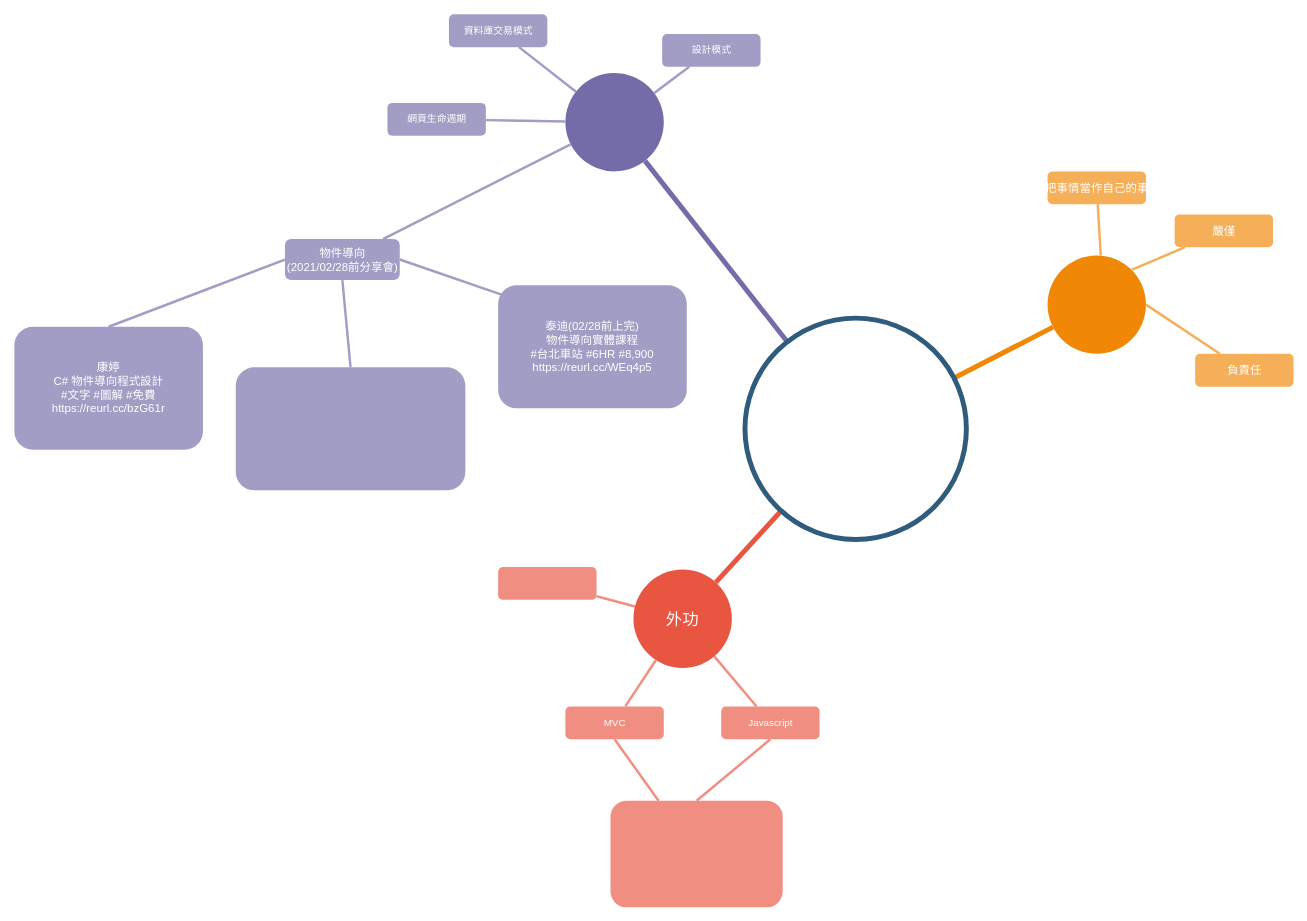
Image size: 1307x921. Some labels were removed from this diagram. Each missing label, with the centre of its shape:
.Net Core: pixel 547 583
內功: pixel 614 122
在一年內成為 資深工程師: pixel 855 428
好學校(2021/02/22 前 上完) C# 物件導向程式設計 #影音線上課程 #實作引導 #NTD 800$ https://reurl.cc/E2XKOA: pixel 350 428
態度: pixel 1096 304
橫溢 MVC全修班 #C# #Javascript #MVC #實體課程 #45,900 https://reurl.cc/Q7Wp80: pixel 696 853
